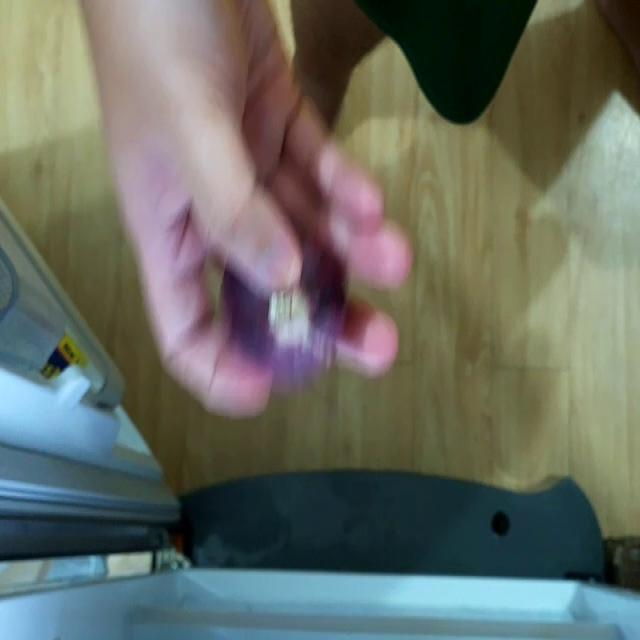onion: (225, 224, 346, 378)
